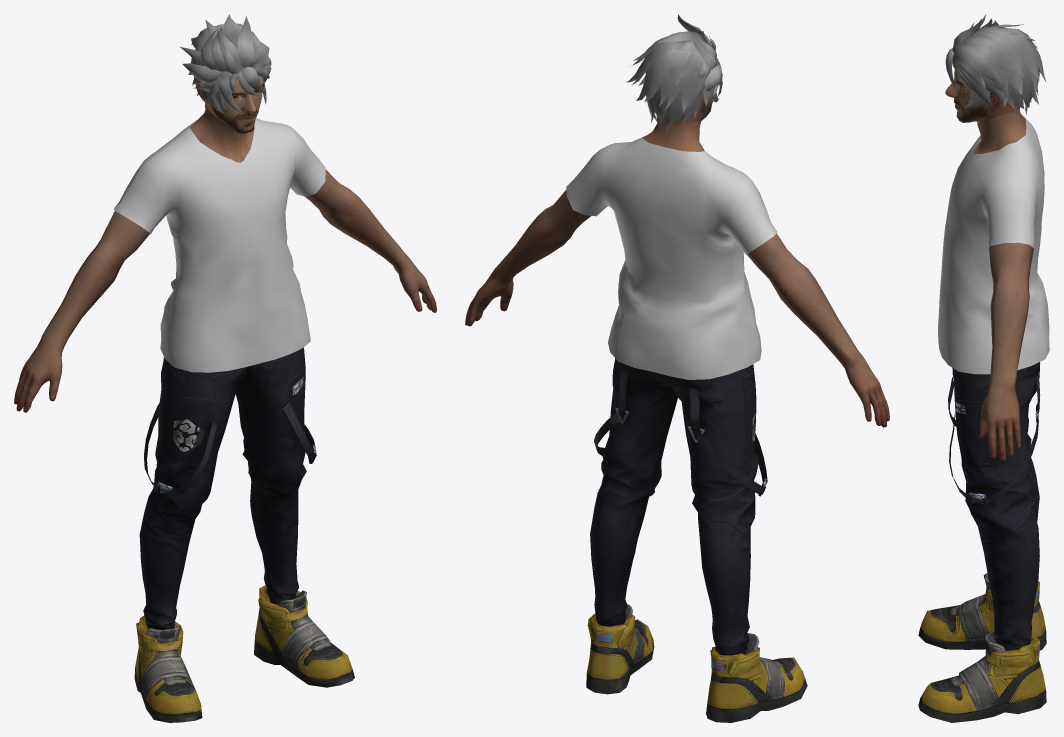
Rendered from Free Fire T Shirt 3D Character Model.obj.
The picture shows the model from 3 angles, left to right: view 1: azimuth 30°, elevation 25°; view 2: azimuth 150°, elevation 25°; view 3: azimuth 270°, elevation 25°; orthographic projection.
Visible parts, largest first — view 1: male_lobby_tshirt_V-neck.003_male_lobby_tshirt_V-neck.017, Male_Lobby_Bottom_Cos_Pekingopera_Grey.000_Male_Lobby_Bottom_Cos, male_lobby_tshirt_V-neck.000_male_lobby_tshirt_V-neck.016, Male_Lobby_Shoe_Cos_Fashiontrends.000_Male_Lobby_Shoe_Cos_Fashio, male_lobby_hair_cos_ffunit.000_male_lobby_hair_cos_ffunit.008, male_lobby_head_cos_Djmale.001_male_lobby_head_cos_Djmale.016; view 2: male_lobby_tshirt_V-neck.003_male_lobby_tshirt_V-neck.017, Male_Lobby_Bottom_Cos_Pekingopera_Grey.000_Male_Lobby_Bottom_Cos, male_lobby_tshirt_V-neck.000_male_lobby_tshirt_V-neck.016, Male_Lobby_Shoe_Cos_Fashiontrends.000_Male_Lobby_Shoe_Cos_Fashio, male_lobby_hair_cos_ffunit.000_male_lobby_hair_cos_ffunit.008; view 3: male_lobby_tshirt_V-neck.003_male_lobby_tshirt_V-neck.017, Male_Lobby_Bottom_Cos_Pekingopera_Grey.000_Male_Lobby_Bottom_Cos, Male_Lobby_Shoe_Cos_Fashiontrends.000_Male_Lobby_Shoe_Cos_Fashio, male_lobby_tshirt_V-neck.000_male_lobby_tshirt_V-neck.016, male_lobby_hair_cos_ffunit.000_male_lobby_hair_cos_ffunit.008, male_lobby_head_cos_Djmale.001_male_lobby_head_cos_Djmale.016.
Boxes of the visible parts, x1,y1,x2,y2 form: male_lobby_tshirt_V-neck.003_male_lobby_tshirt_V-neck.017: [113, 118, 325, 372]; Male_Lobby_Bottom_Cos_Pekingopera_Grey.000_Male_Lobby_Bottom_Cos: [139, 347, 316, 629]; male_lobby_tshirt_V-neck.000_male_lobby_tshirt_V-neck.016: [14, 103, 436, 412]; Male_Lobby_Shoe_Cos_Fashiontrends.000_Male_Lobby_Shoe_Cos_Fashio: [134, 585, 354, 722]; male_lobby_hair_cos_ffunit.000_male_lobby_hair_cos_ffunit.008: [180, 14, 271, 114]; male_lobby_head_cos_Djmale.001_male_lobby_head_cos_Djmale.016: [197, 75, 264, 133]; male_lobby_tshirt_V-neck.003_male_lobby_tshirt_V-neck.017: [566, 137, 777, 379]; Male_Lobby_Bottom_Cos_Pekingopera_Grey.000_Male_Lobby_Bottom_Cos: [590, 358, 767, 655]; male_lobby_tshirt_V-neck.000_male_lobby_tshirt_V-neck.016: [465, 116, 889, 427]; Male_Lobby_Shoe_Cos_Fashiontrends.000_Male_Lobby_Shoe_Cos_Fashio: [586, 604, 807, 722]; male_lobby_hair_cos_ffunit.000_male_lobby_hair_cos_ffunit.008: [626, 14, 722, 131]; male_lobby_tshirt_V-neck.003_male_lobby_tshirt_V-neck.017: [938, 119, 1049, 374]; Male_Lobby_Bottom_Cos_Pekingopera_Grey.000_Male_Lobby_Bottom_Cos: [948, 362, 1040, 650]; Male_Lobby_Shoe_Cos_Fashiontrends.000_Male_Lobby_Shoe_Cos_Fashio: [918, 573, 1046, 722]; male_lobby_tshirt_V-neck.000_male_lobby_tshirt_V-neck.016: [973, 107, 1033, 461]; male_lobby_hair_cos_ffunit.000_male_lobby_hair_cos_ffunit.008: [945, 15, 1046, 115]; male_lobby_head_cos_Djmale.001_male_lobby_head_cos_Djmale.016: [945, 70, 1019, 122].
Bounding box in the file's own units: 1.32 × 2.02 × 0.3623.
